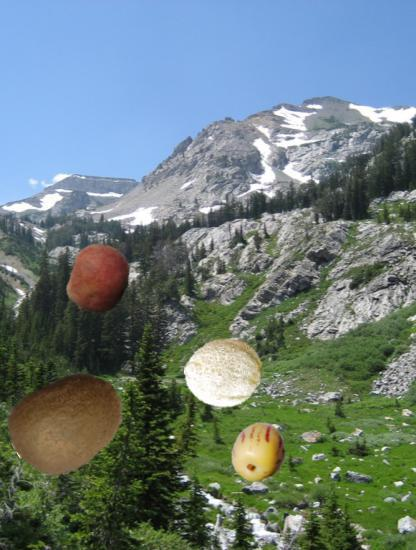Cantaloupe: (184, 334, 262, 412)
Kiwi: (8, 364, 126, 482)
Peach: (63, 244, 134, 315)
Pepino: (229, 423, 287, 481)
